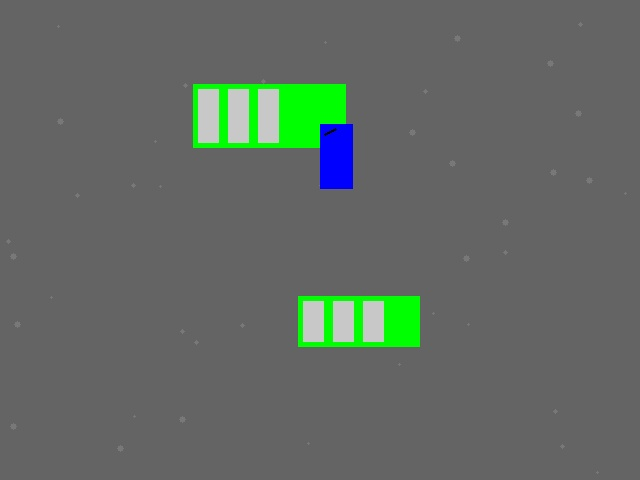bus: (193, 84, 345, 147), (298, 296, 419, 346)
motorcycle: (320, 124, 352, 188)
